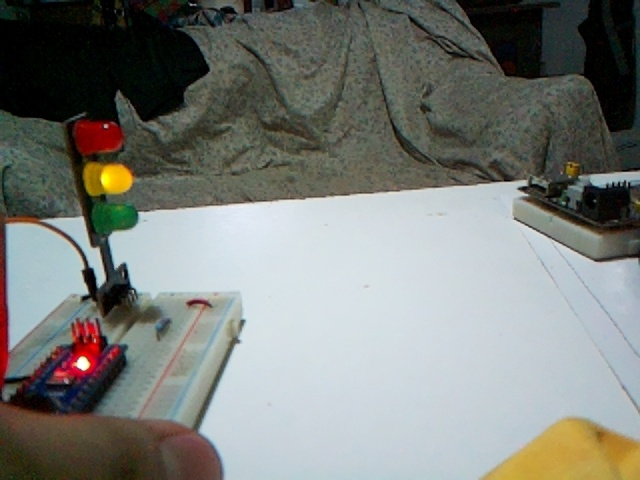traffic_light_yellow: (66, 116, 139, 314)
